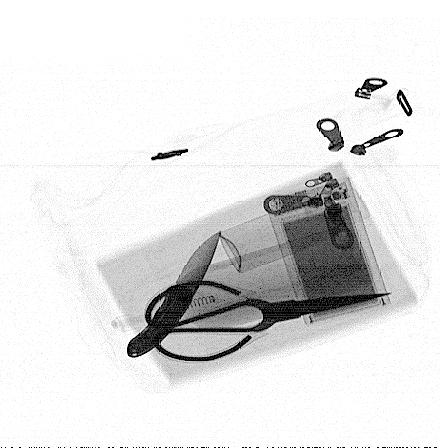Knife: (126, 231, 224, 363)
Powerbank: (265, 178, 392, 326)
Scissors: (144, 279, 396, 362)
Sprayer: (216, 178, 370, 277)
